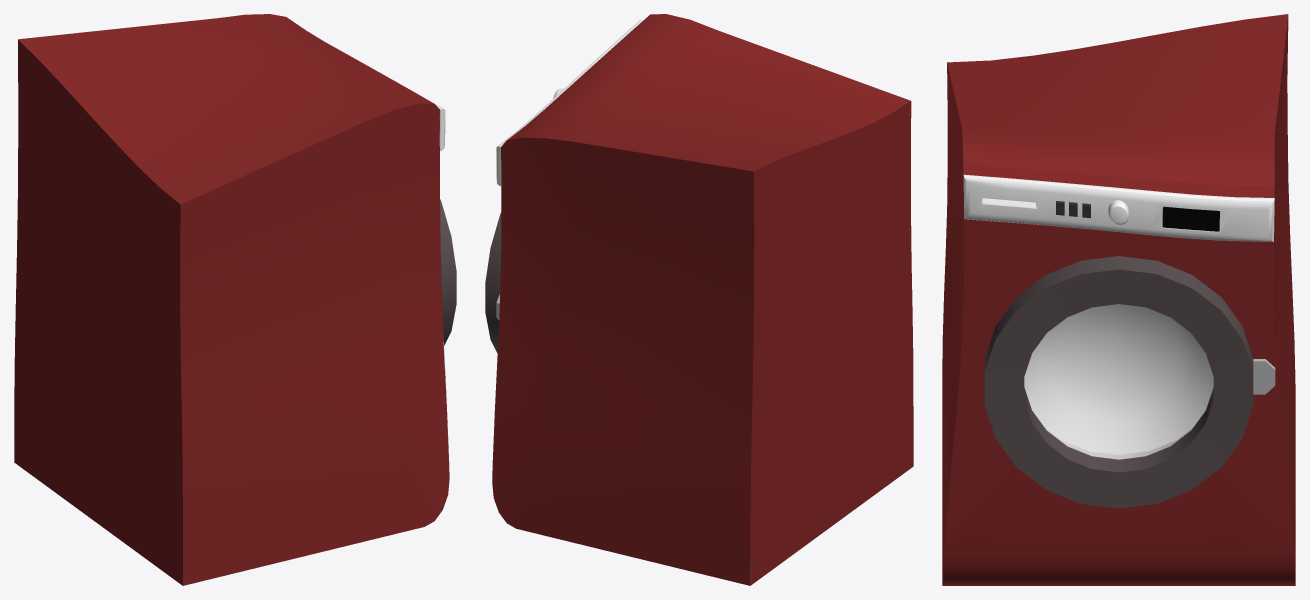
File: WashingMachine.fbx
3 renders of one model, left to right at view 1: azimuth 30°, elevation 25°; view 2: azimuth 150°, elevation 25°; view 3: azimuth 270°, elevation 25°, orthographic. The views are drawn at different scales.
Visible parts, largest first — view 1: WashingMachine, WashingMachine_Door; view 2: WashingMachine, WashingMachine_Door; view 3: WashingMachine, WashingMachine_Door.
Boxes of the visible parts, left/top/right/bottom form: WashingMachine: left=14, top=14, right=449, bottom=585; WashingMachine_Door: left=440, top=199, right=456, bottom=345; WashingMachine: left=492, top=14, right=913, bottom=585; WashingMachine_Door: left=485, top=212, right=501, bottom=353; WashingMachine: left=942, top=14, right=1295, bottom=585; WashingMachine_Door: left=984, top=256, right=1275, bottom=508.
Size of the model in its own units: 60.4 by 83.6 by 60.
